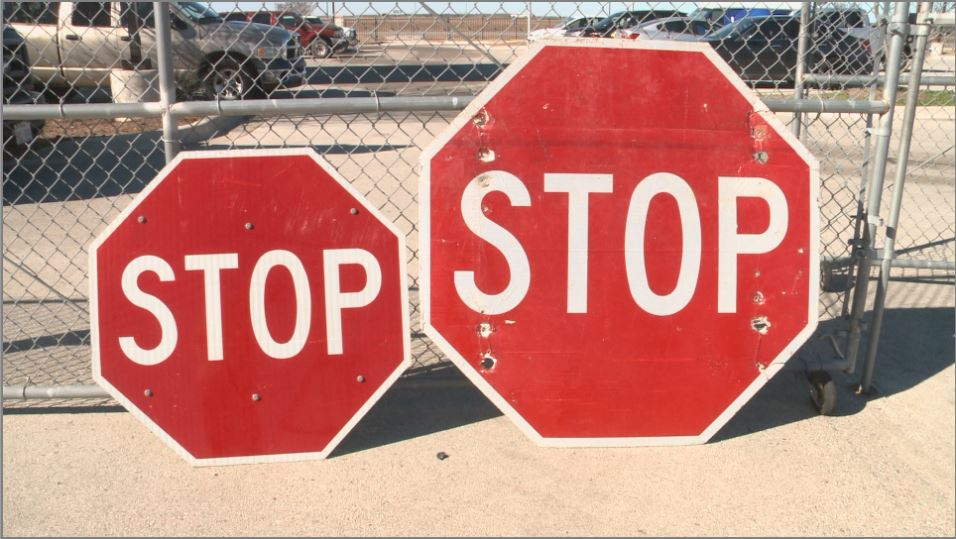stop: (418, 40, 824, 450), (90, 145, 405, 464)
